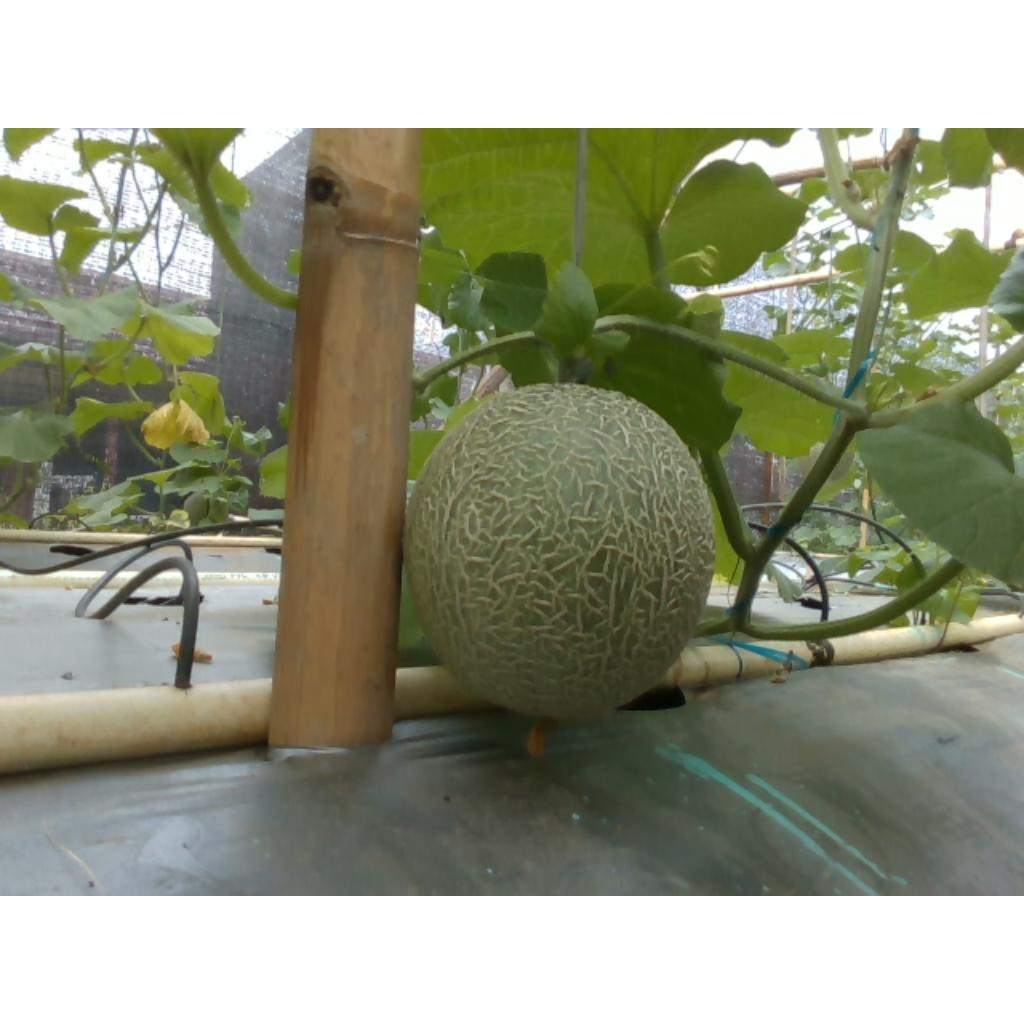melon: (405, 384, 714, 718)
